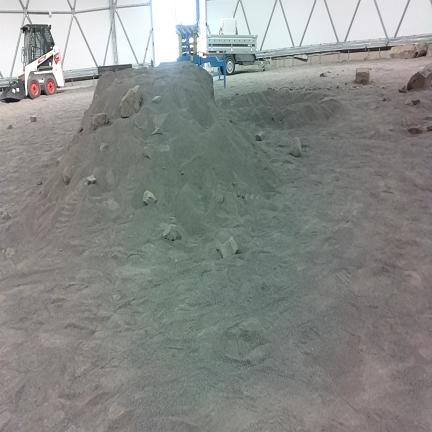Rock: (407, 64, 431, 90), (120, 86, 140, 117), (389, 42, 417, 59), (217, 237, 238, 258), (407, 72, 425, 90), (288, 137, 302, 157), (93, 113, 109, 130), (163, 224, 178, 241), (355, 68, 370, 85), (407, 121, 422, 134), (416, 41, 428, 57), (143, 191, 156, 205), (62, 167, 71, 184), (107, 198, 118, 210), (273, 110, 284, 121), (255, 131, 265, 141), (143, 147, 151, 159), (6, 248, 15, 258), (402, 117, 411, 127), (87, 175, 96, 184), (2, 210, 10, 220), (152, 128, 162, 135), (217, 194, 224, 204), (426, 44, 431, 57), (56, 157, 63, 166), (100, 143, 107, 152), (426, 122, 432, 132), (399, 86, 407, 93), (153, 96, 161, 103), (383, 96, 391, 101), (236, 190, 241, 198), (412, 100, 420, 105), (380, 92, 386, 98), (30, 116, 36, 122), (78, 127, 83, 133), (36, 180, 42, 185), (405, 101, 412, 105), (320, 73, 326, 77), (380, 85, 385, 89), (7, 125, 12, 129), (242, 193, 245, 199), (327, 70, 331, 74), (336, 85, 339, 89)
